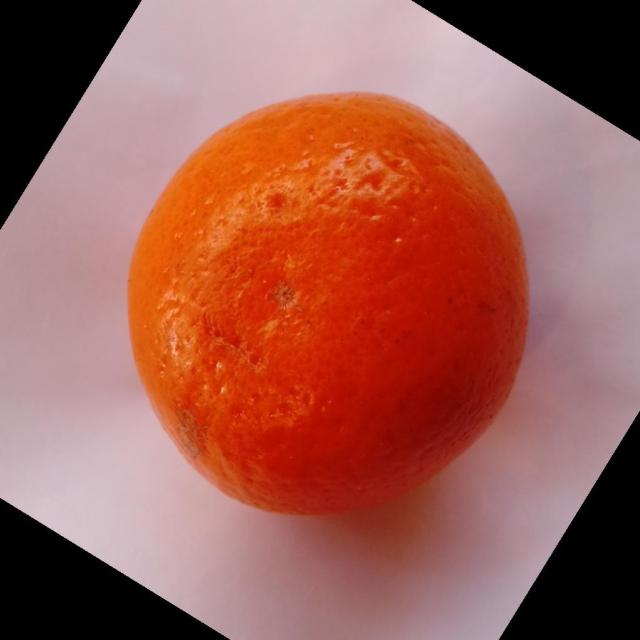fresh orange: (126, 89, 530, 516)
